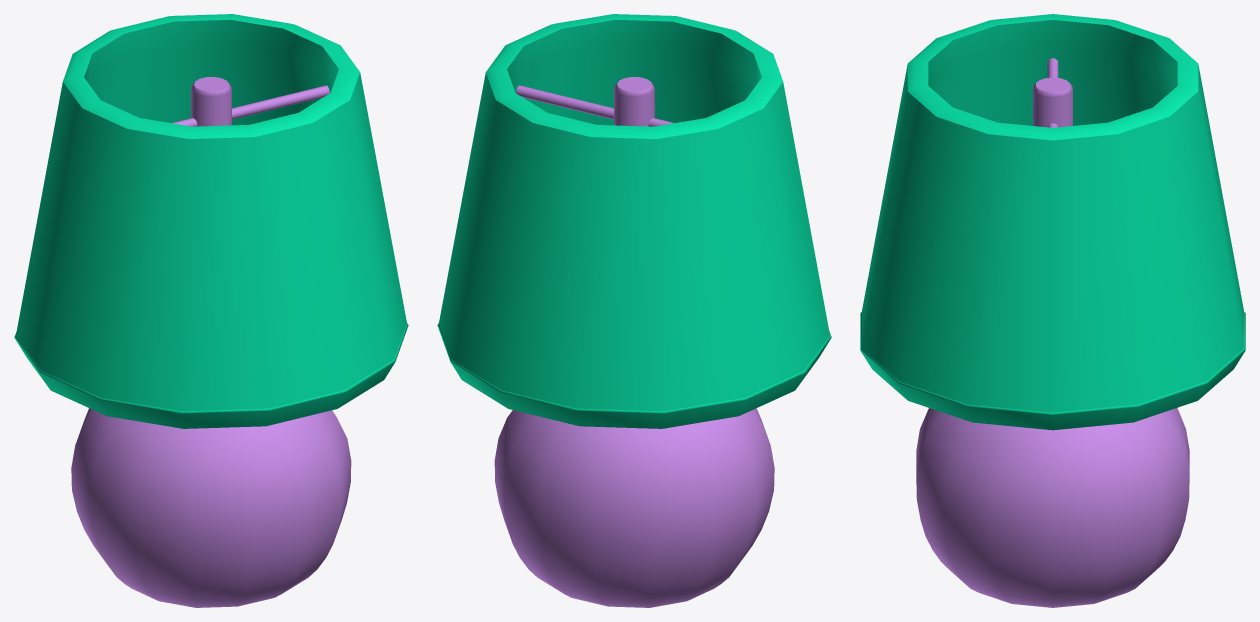
Rendered from Friday_SmallLamp.fbx.
3 views of the same model, side by side, from view 1: azimuth 30°, elevation 25°; view 2: azimuth 150°, elevation 25°; view 3: azimuth 270°, elevation 25° (orthographic).
Parts seen in each view (by area): view 1: Lampshade, Lamp; view 2: Lampshade, Lamp; view 3: Lampshade, Lamp.
Boxes of the visible parts, bbox=[...] form: Lampshade: bbox=[14, 14, 408, 428]; Lamp: bbox=[71, 77, 351, 607]; Lampshade: bbox=[437, 14, 831, 428]; Lamp: bbox=[494, 77, 774, 607]; Lampshade: bbox=[860, 14, 1245, 430]; Lamp: bbox=[916, 58, 1189, 607].
Size of the model in its own units: 128 by 180 by 125.
